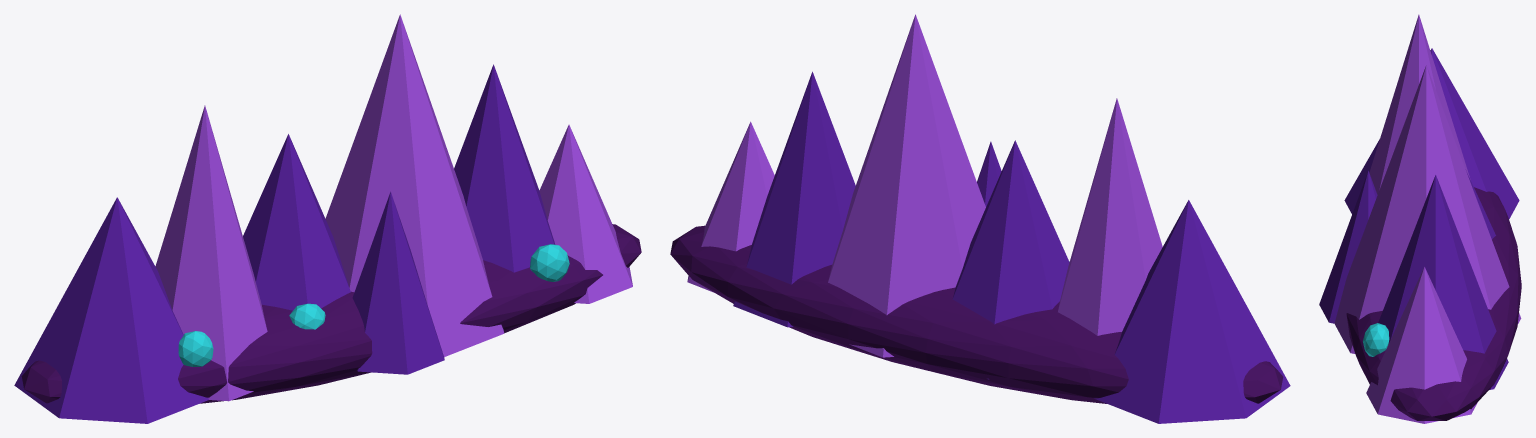
File: 07_Cristais_Plutonita 1.obj
3 views of the same model, side by side, from view 1: azimuth 30°, elevation 25°; view 2: azimuth 150°, elevation 25°; view 3: azimuth 270°, elevation 25° (orthographic). The views are drawn at different scales.
Parts seen in each view (by area): view 1: parte_008_purple_light, parte_002_purple, parte_001_plum, parte_004_purple_light, parte_010_purple, parte_006_purple, parte_014_purple, parte_012_purple_light, parte_019_cyan, parte_016_cyan, parte_017_cyan; view 2: parte_001_plum, parte_008_purple_light, parte_002_purple, parte_004_purple_light, parte_010_purple, parte_006_purple, parte_012_purple_light, parte_014_purple; view 3: parte_008_purple_light, parte_001_plum, parte_010_purple, parte_012_purple_light, parte_002_purple, parte_004_purple_light, parte_014_purple, parte_019_cyan, parte_006_purple.
Part boxes in pixels (x1=…): parte_008_purple_light: x1=325, y1=14, x2=504, y2=356; parte_002_purple: x1=14, y1=197, x2=208, y2=423; parte_001_plum: x1=21, y1=224, x2=641, y2=403; parte_004_purple_light: x1=155, y1=105, x2=267, y2=401; parte_010_purple: x1=454, y1=64, x2=555, y2=272; parte_006_purple: x1=243, y1=134, x2=350, y2=310; parte_014_purple: x1=352, y1=191, x2=444, y2=374; parte_012_purple_light: x1=539, y1=124, x2=632, y2=303; parte_019_cyan: x1=530, y1=244, x2=569, y2=281; parte_016_cyan: x1=178, y1=331, x2=213, y2=366; parte_017_cyan: x1=289, y1=303, x2=325, y2=329; parte_001_plum: x1=670, y1=225, x2=1283, y2=403; parte_008_purple_light: x1=828, y1=14, x2=985, y2=357; parte_002_purple: x1=1094, y1=200, x2=1290, y2=423; parte_004_purple_light: x1=1058, y1=98, x2=1162, y2=335; parte_010_purple: x1=733, y1=71, x2=855, y2=327; parte_006_purple: x1=952, y1=140, x2=1069, y2=379; parte_012_purple_light: x1=687, y1=121, x2=774, y2=292; parte_014_purple: x1=977, y1=141, x2=1001, y2=206; parte_008_purple_light: x1=1334, y1=65, x2=1521, y2=353; parte_001_plum: x1=1346, y1=187, x2=1521, y2=420; parte_010_purple: x1=1378, y1=175, x2=1508, y2=389; parte_012_purple_light: x1=1366, y1=267, x2=1477, y2=423; parte_002_purple: x1=1344, y1=48, x2=1519, y2=219; parte_004_purple_light: x1=1369, y1=14, x2=1470, y2=194; parte_014_purple: x1=1319, y1=171, x2=1377, y2=323; parte_019_cyan: x1=1363, y1=323, x2=1389, y2=356; parte_006_purple: x1=1465, y1=169, x2=1495, y2=239.
Size of the model in its own units: 3.3 by 1.71 by 1.08.
